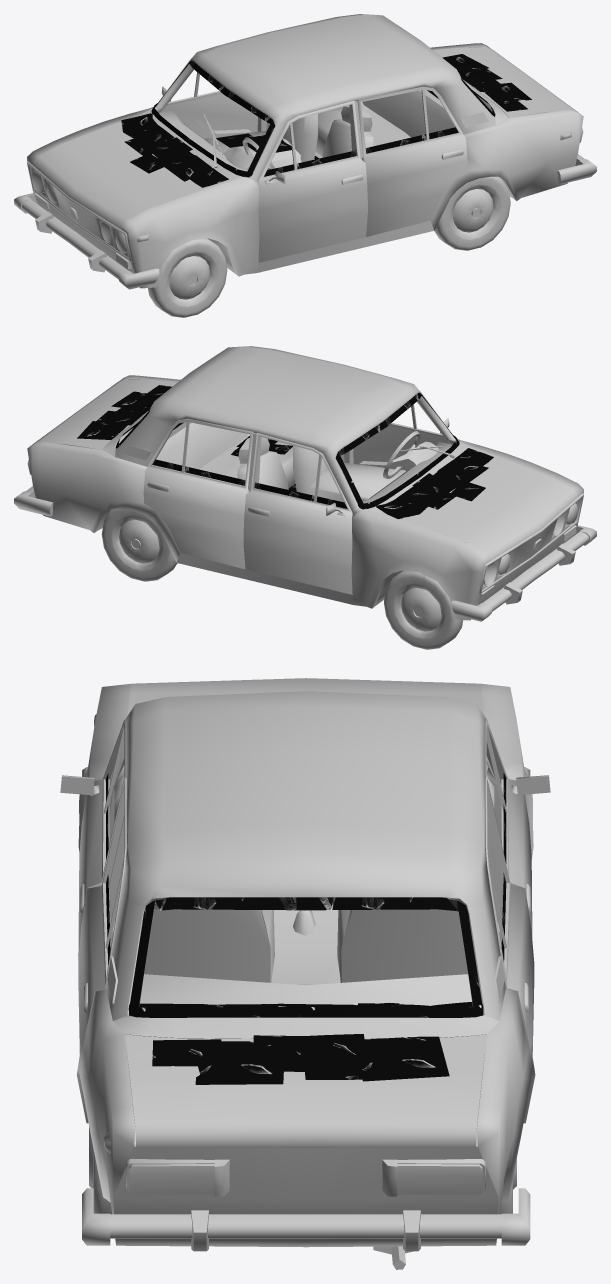
The model's file is VAZ 2106.fbx.
3 views of the same model, one above another, from view 1: azimuth 30°, elevation 25°; view 2: azimuth 150°, elevation 25°; view 3: azimuth 270°, elevation 25° (orthographic). The views are drawn at different scales.
Parts seen in each view (by area): view 1: mesh1, mesh0; view 2: mesh1, mesh0; view 3: mesh1, mesh0.
Boxes of the visible parts, left/top/right/bottom form: mesh1: left=14, top=14, right=596, bottom=317; mesh0: left=121, top=54, right=531, bottom=187; mesh1: left=14, top=346, right=596, bottom=649; mesh0: left=77, top=385, right=493, bottom=519; mesh1: left=60, top=678, right=550, bottom=1269; mesh0: left=105, top=773, right=506, bottom=1084.
Bounding box in the file's own units: 398 × 144 × 174.
